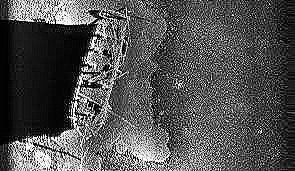ship: (65, 5, 132, 142)
